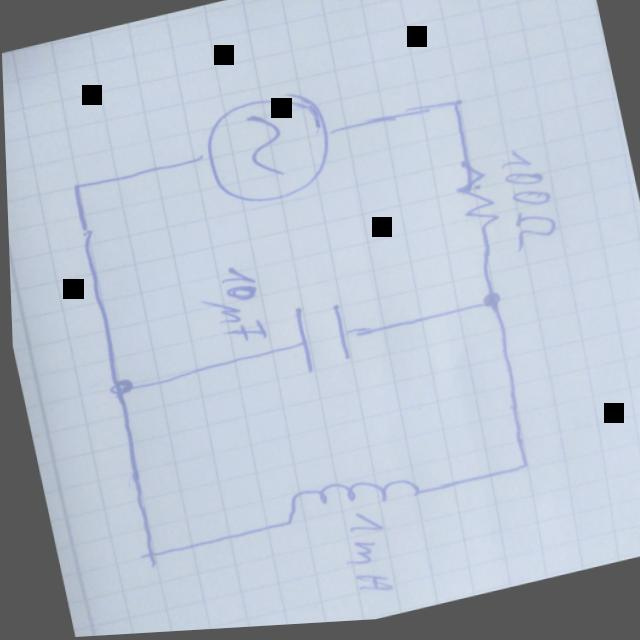capacitor: (280, 293, 354, 383)
inductor: (268, 461, 423, 538)
junction: (472, 288, 506, 320), (101, 373, 134, 402), (438, 95, 468, 121), (132, 543, 163, 568), (505, 456, 534, 481), (62, 174, 91, 196)
resistor: (446, 159, 503, 246)
source: (190, 85, 340, 219)
text: (492, 146, 561, 262), (193, 260, 269, 354), (330, 508, 394, 604)
